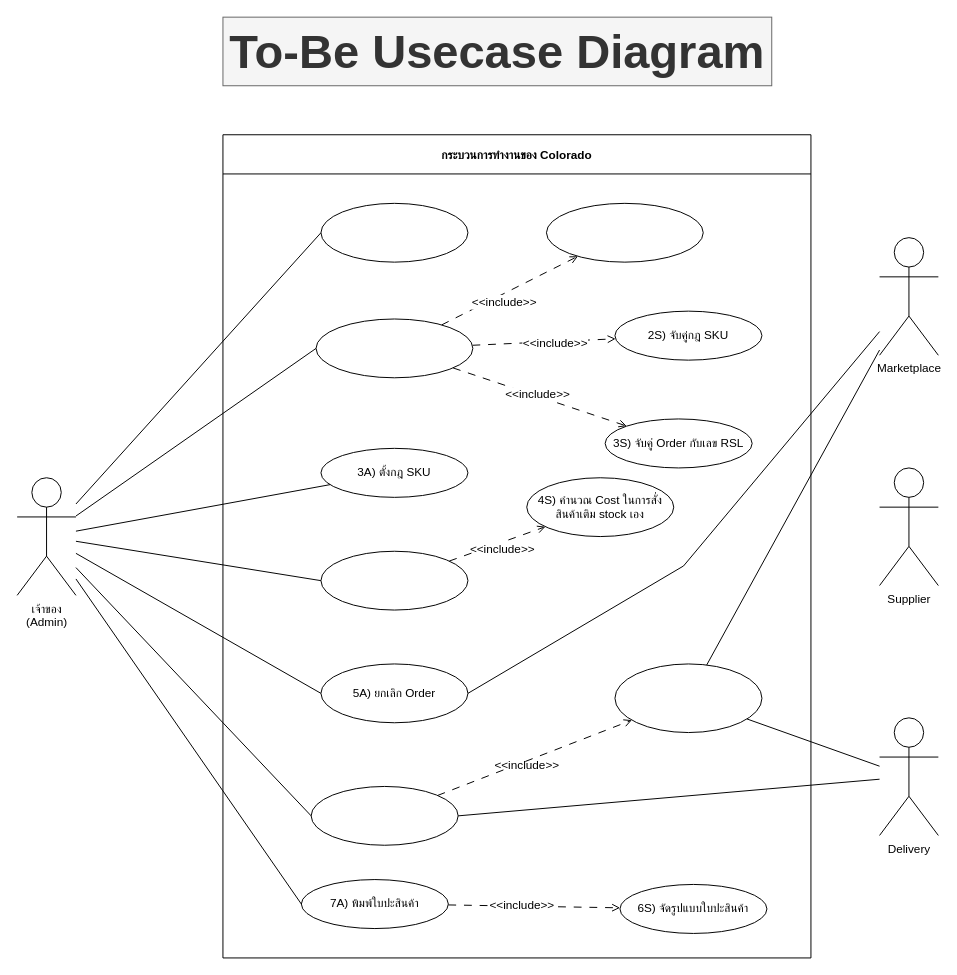
Image size: 957x975. Some labels were removed from this diagram. Each missing label, with the centre of its shape:
"1A) เข้าสู่ระบบ" belongs at (x=394, y=232).
"1S) ตรวจสอบของสินค้าใน stock + RSL" belongs at (x=624, y=232).
"2A) ตรวจสอบคำสั่งซื้อ" belongs at (x=394, y=348).
"4A) ตัดสินใจการสั่งซื้อสินค้าเพิ่มเข้า stock" belongs at (x=394, y=580).
"5S) ส่งเลขติดตามสินค้าของ Delivery ให้ลูกค้าผ่าน Marketplace" belongs at (x=688, y=698).
"6A) จัดส่งสินค้าให้ลูกค้าผ่าน Delivery" belongs at (x=384, y=815).
